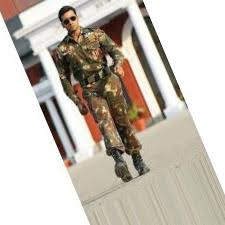uniform: (44, 24, 157, 185)
